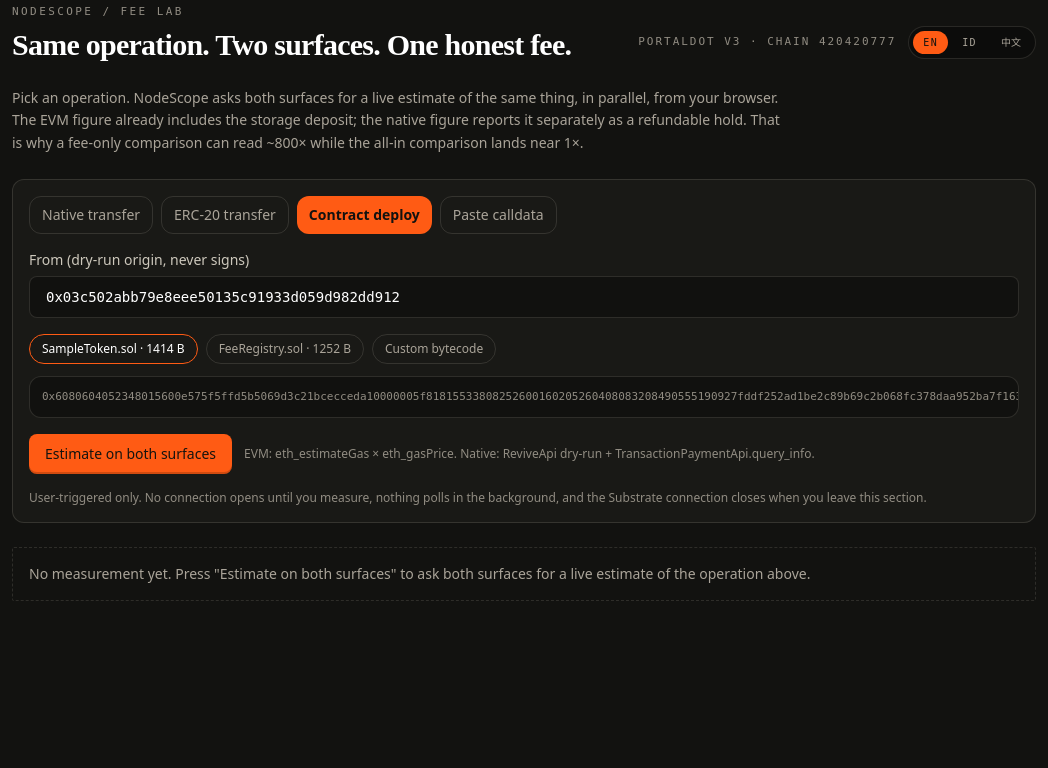
Scenario: FeeLabPanel › switches op forms without touching the network
Click the tab "ERC-20 transfer" at (225, 215), box [161, 196, 289, 234]
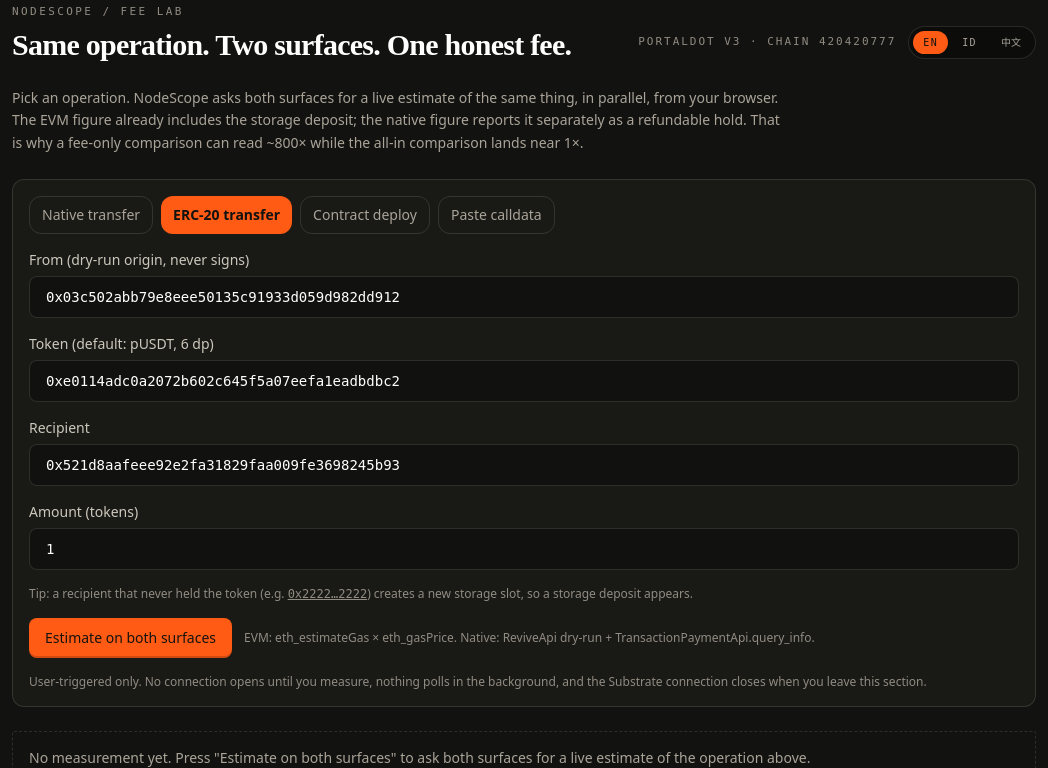
Expected: the field showing "0xe0114adc0a2072b602c645f5a07eefa1eadbdbc2" below "Token (default: pUSDT, 6 dp)" is shown, [29, 360, 1019, 402]
Click the tab "Paste calldata" at (496, 215), box [438, 196, 555, 234]
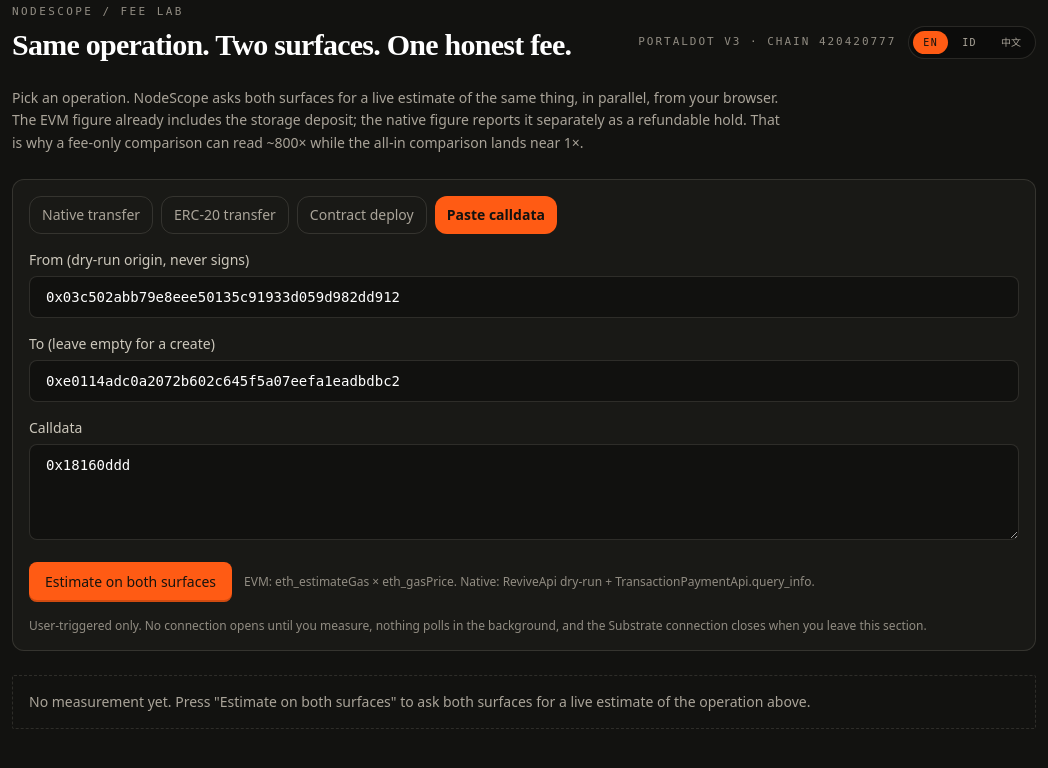
Expected: the text box showing "0x18160ddd" is shown, [29, 444, 1019, 540]
